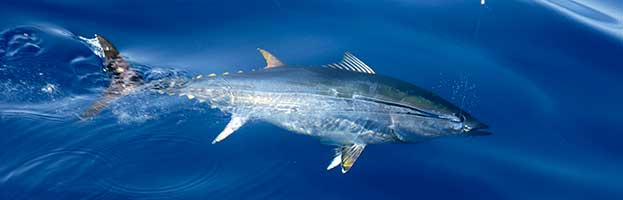Bluefina Tuna: (56, 16, 498, 182)
